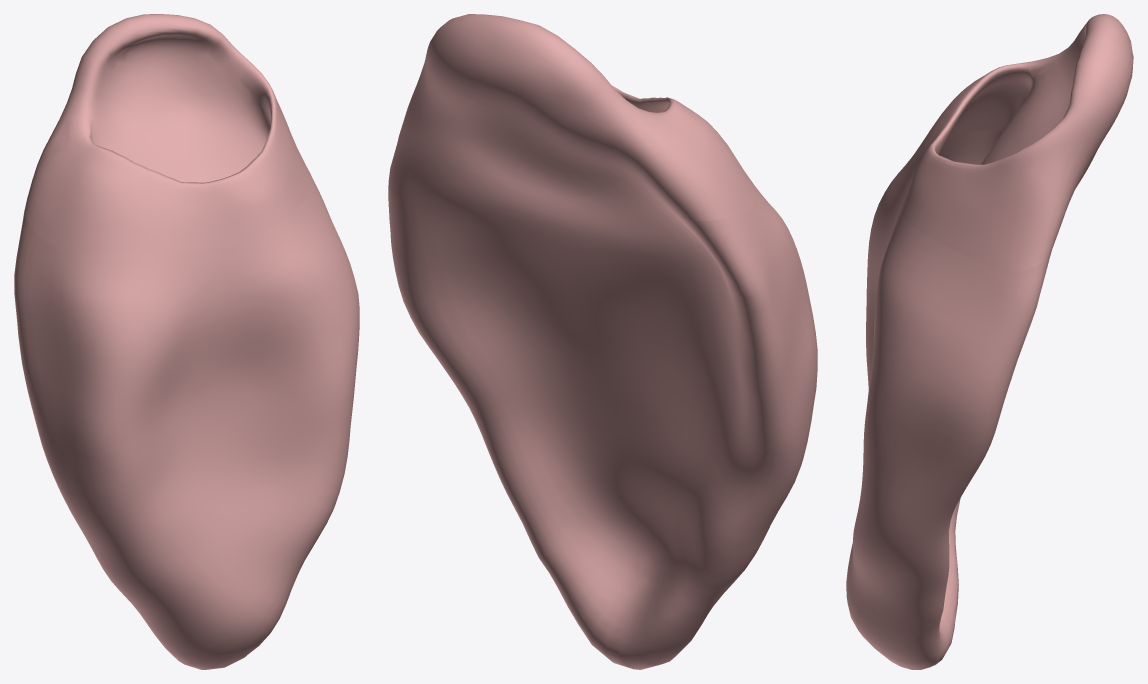
File: VH_F_Vagina.glb
The picture shows the model from 3 angles, left to right: view 1: azimuth 30°, elevation 25°; view 2: azimuth 150°, elevation 25°; view 3: azimuth 270°, elevation 25°; orthographic projection. The views are drawn at different scales.
Parts seen in each view (by area): view 1: VH_F_vagina, VH_F_cervicovaginal_junction; view 2: VH_F_vagina, VH_F_cervicovaginal_junction; view 3: VH_F_vagina, VH_F_cervicovaginal_junction.
Part boxes in pixels (x1,y1,x2,y2): VH_F_vagina: (14,175,359,669); VH_F_cervicovaginal_junction: (24,14,312,252); VH_F_vagina: (388,147,817,669); VH_F_cervicovaginal_junction: (396,14,754,221); VH_F_vagina: (846,130,1049,669); VH_F_cervicovaginal_junction: (901,14,1133,272).
Bounding box in the file's own units: 0.0445 × 0.0778 × 0.0313.
